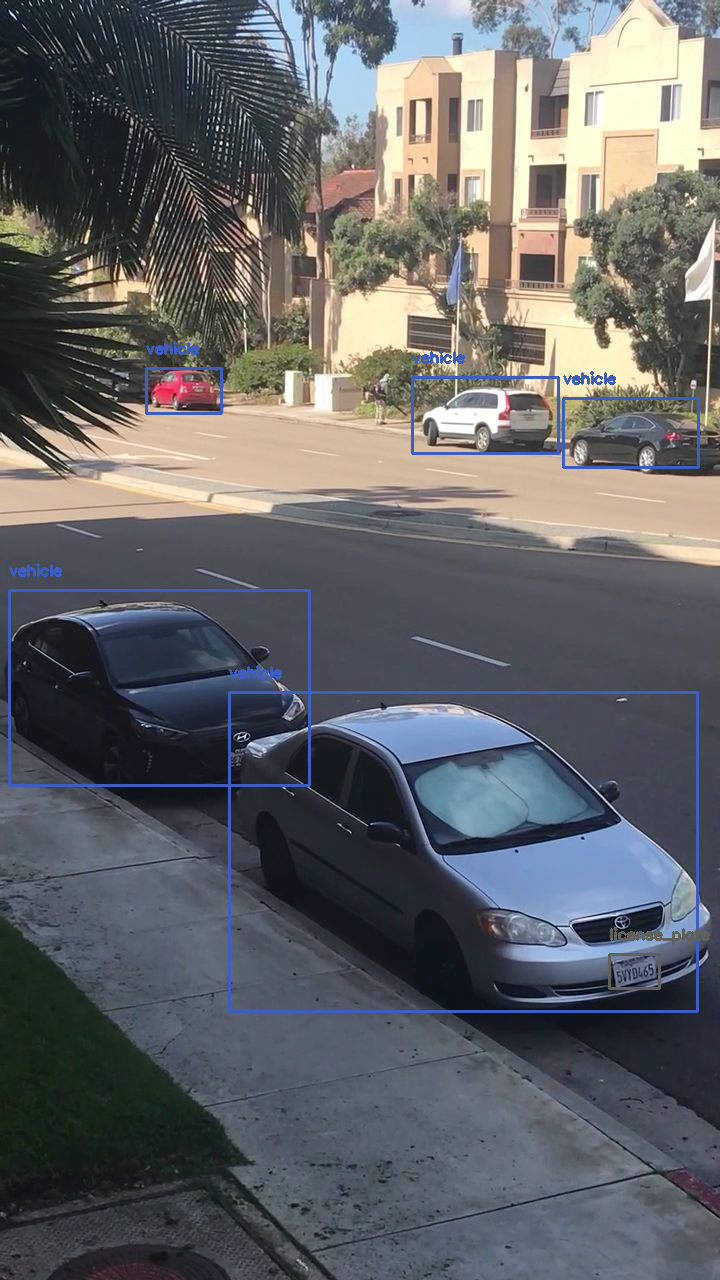license_plate: (609, 954, 659, 988)
vehicle: (229, 692, 697, 1011), (9, 590, 309, 785), (412, 377, 558, 453), (563, 398, 698, 467), (146, 368, 221, 413)
